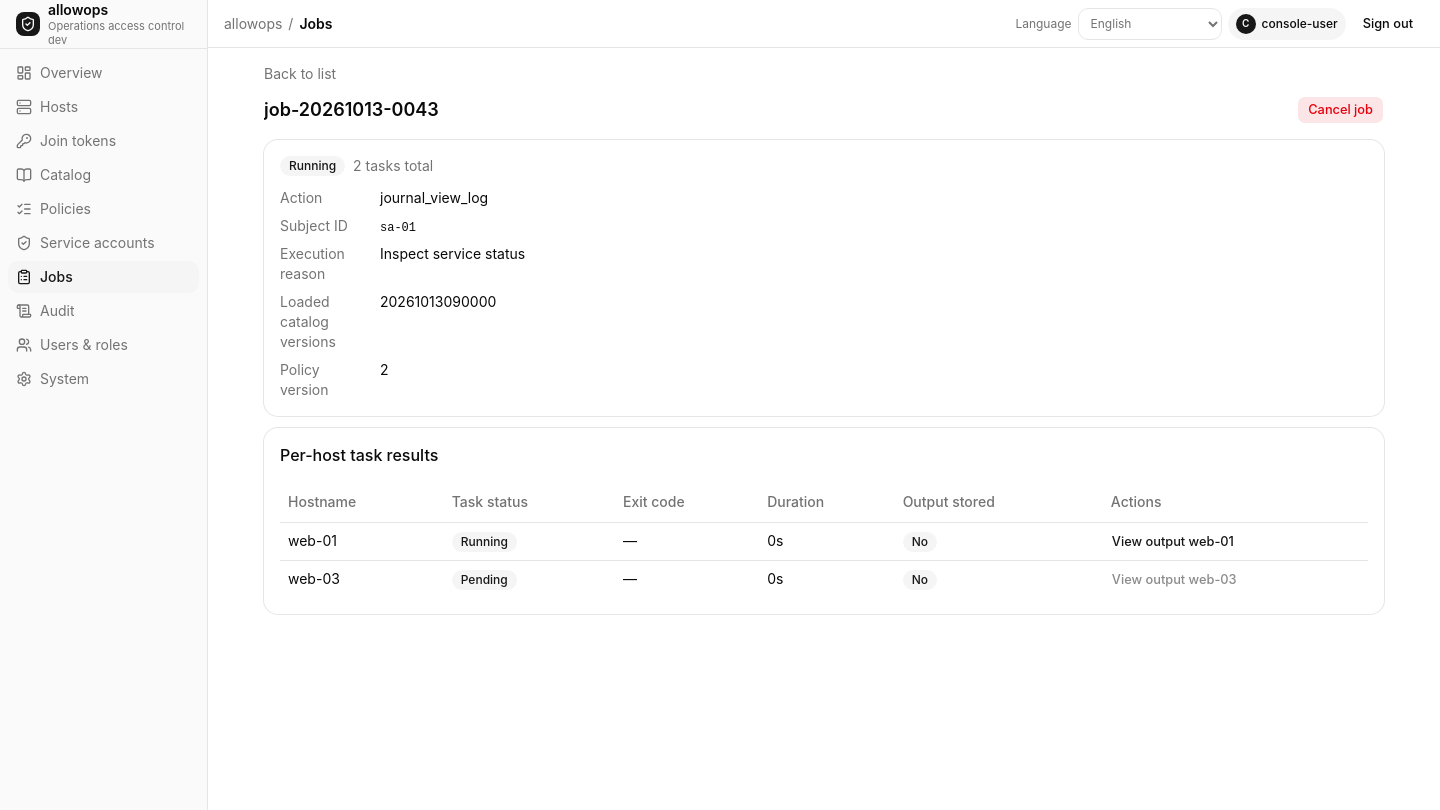
job cancellation notifications › exposes a denial while the en confirmation stays open
Click the button "Cancel job" at (1341, 110), box x1=1297 y1=96 x2=1384 y2=124
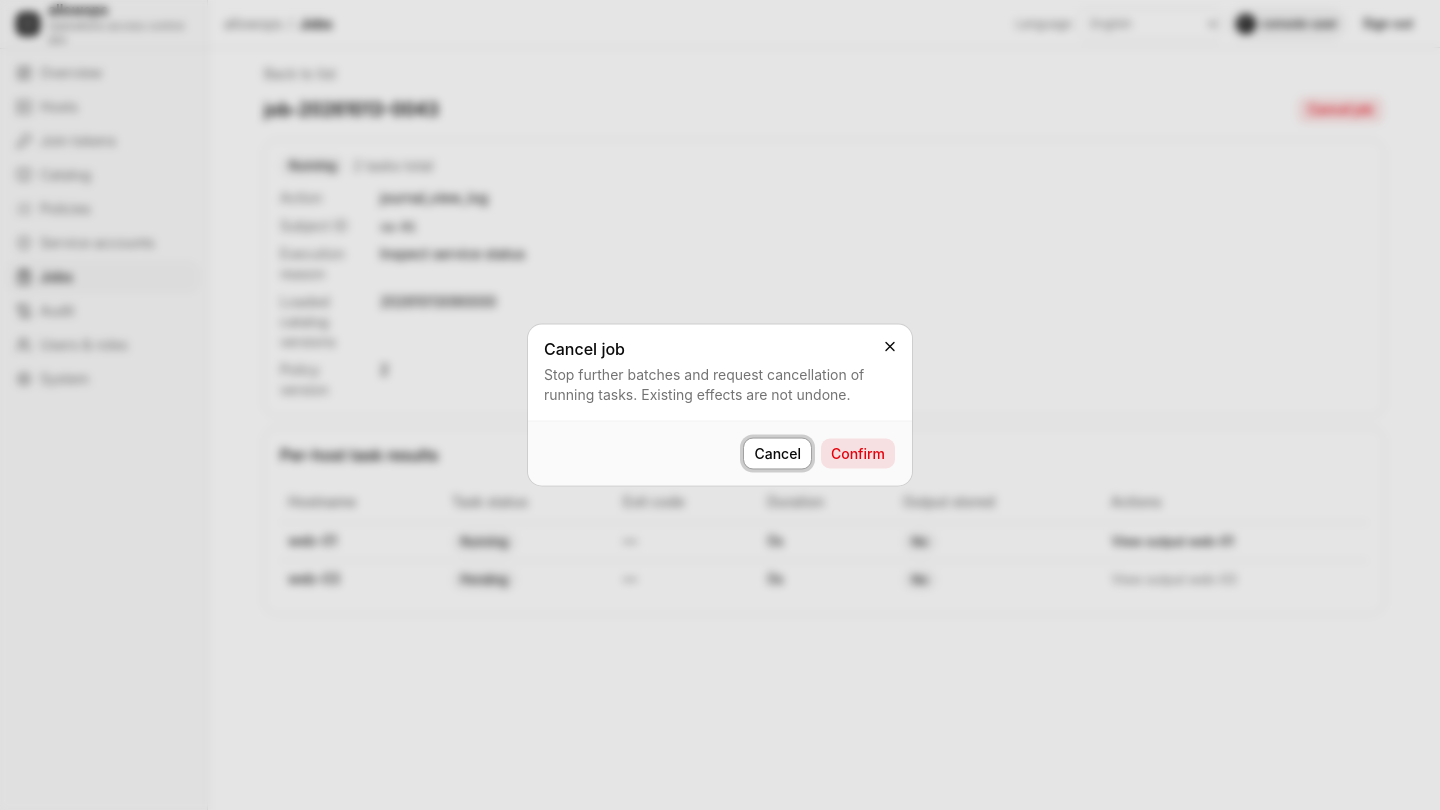
Click the button "Confirm" at (858, 454), box x1=820 y1=438 x2=896 y2=470
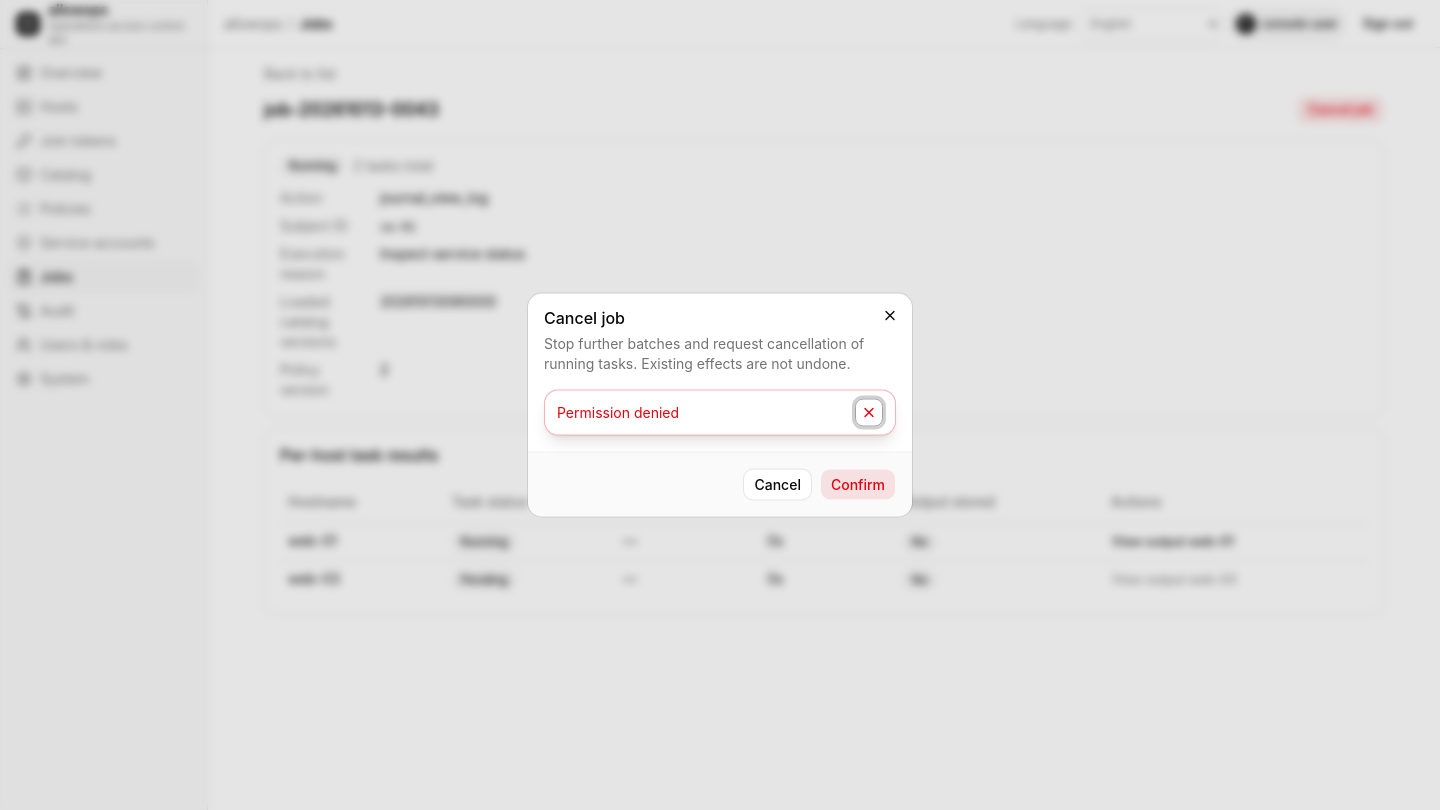
Expected: the message reads "Permission denied", x1=557 y1=404 x2=679 y2=420
Expected: the message "Permission denied" is shown, x1=544 y1=390 x2=896 y2=436
Click the button named "Close" in the row of "Permission denied" at (869, 412), box x1=855 y1=398 x2=883 y2=426
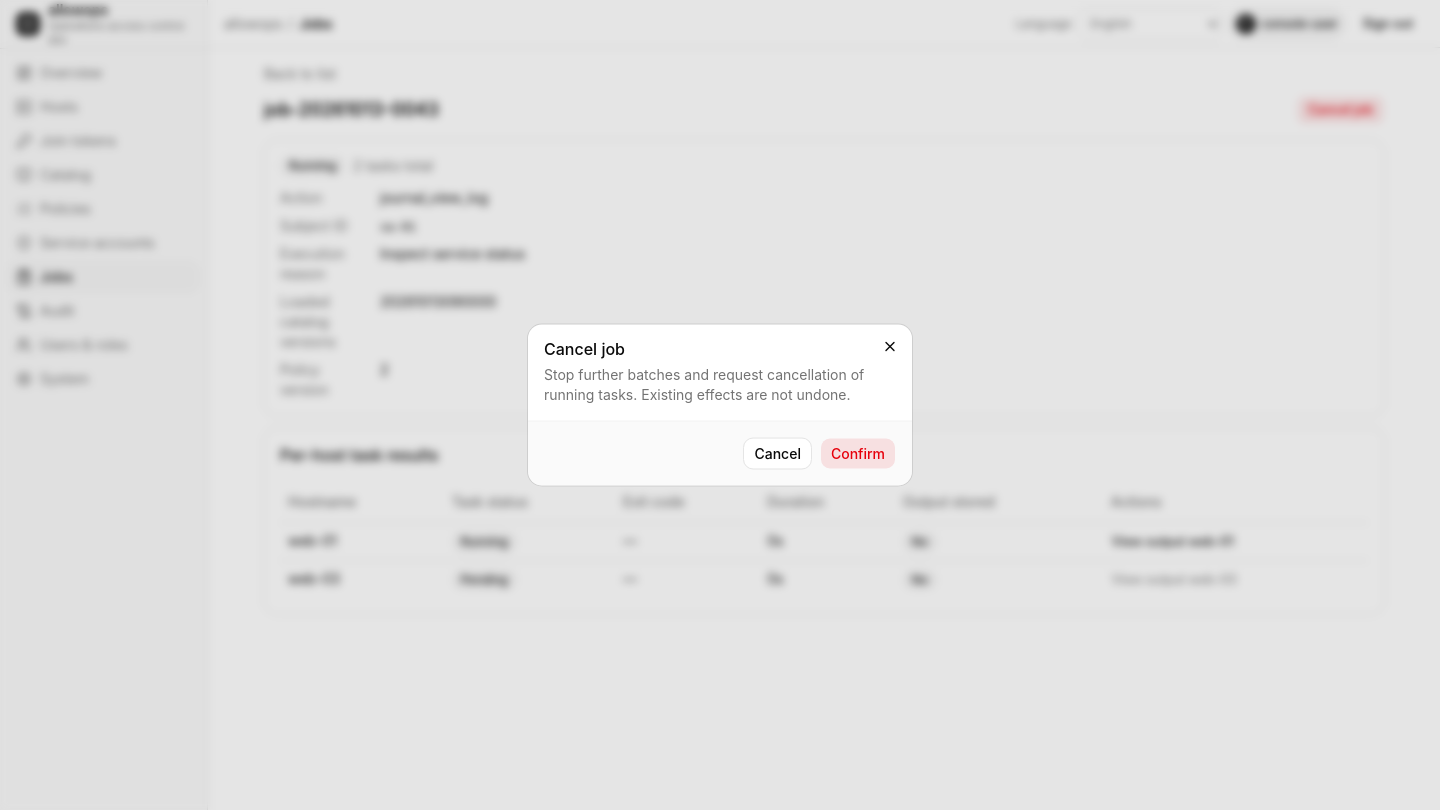
Expected: the message "Permission denied" is gone
